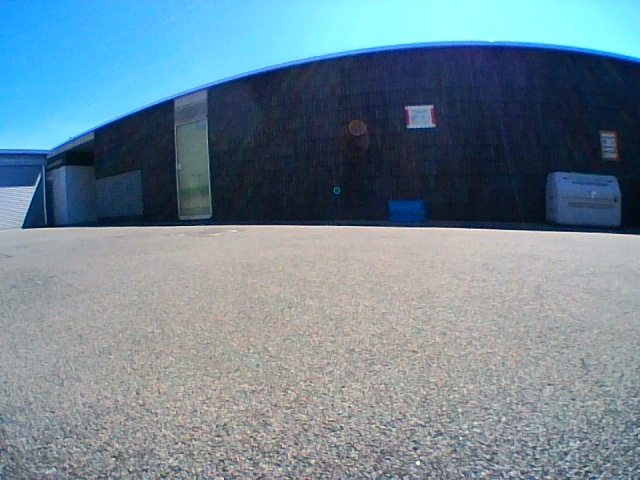blue_box: (389, 200, 422, 220)
